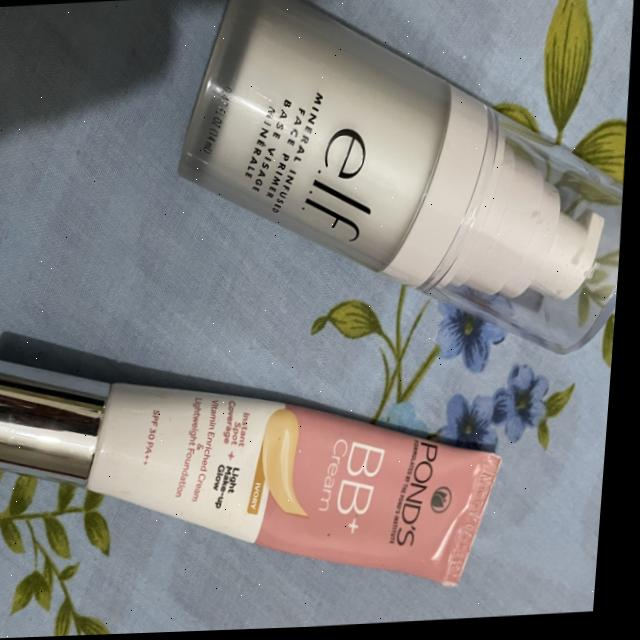bb cream: (0, 300, 530, 629)
primer: (154, 0, 640, 398)
